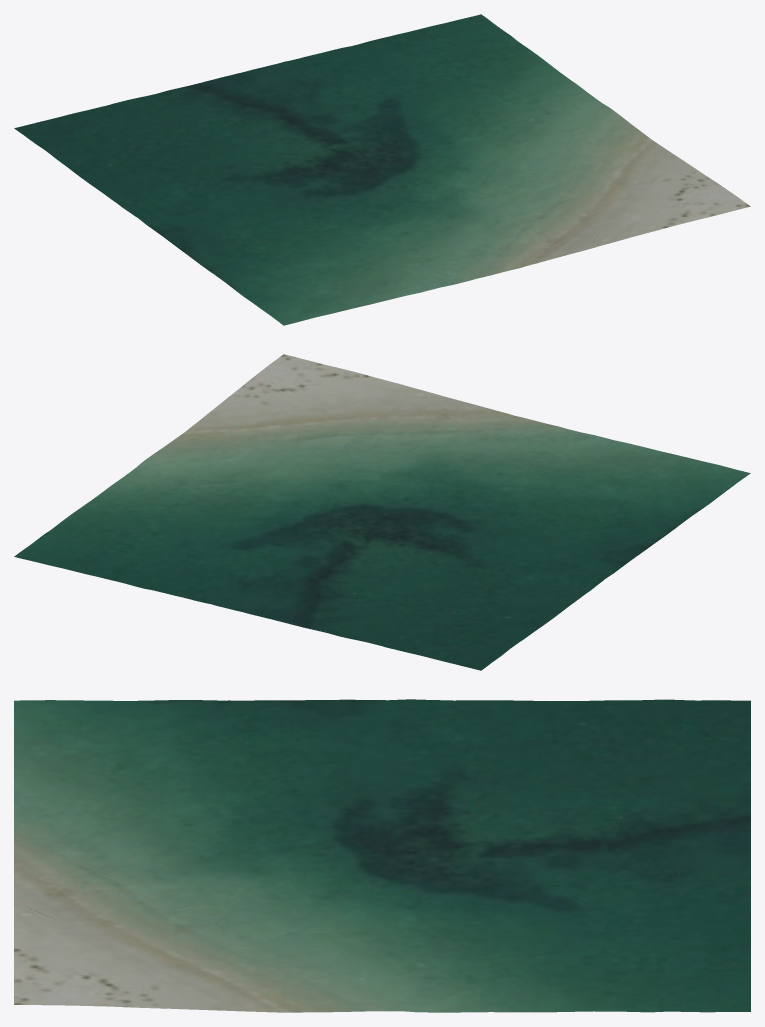
3 views of the same model, one above another, from view 1: azimuth 30°, elevation 25°; view 2: azimuth 150°, elevation 25°; view 3: azimuth 270°, elevation 25° (orthographic). The views are drawn at different scales.
Size of the model in its own units: 104 by 1.26 by 104.
2 materials, 2 textured.
